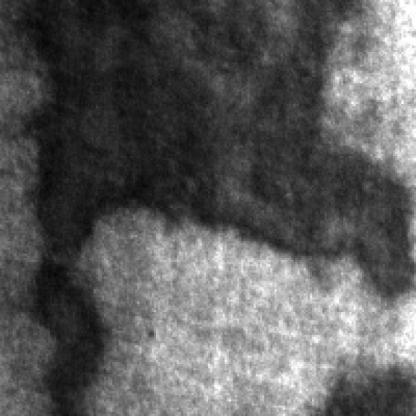patches: (85, 0, 416, 266), (19, 0, 119, 268), (27, 252, 110, 408), (326, 351, 416, 412)
